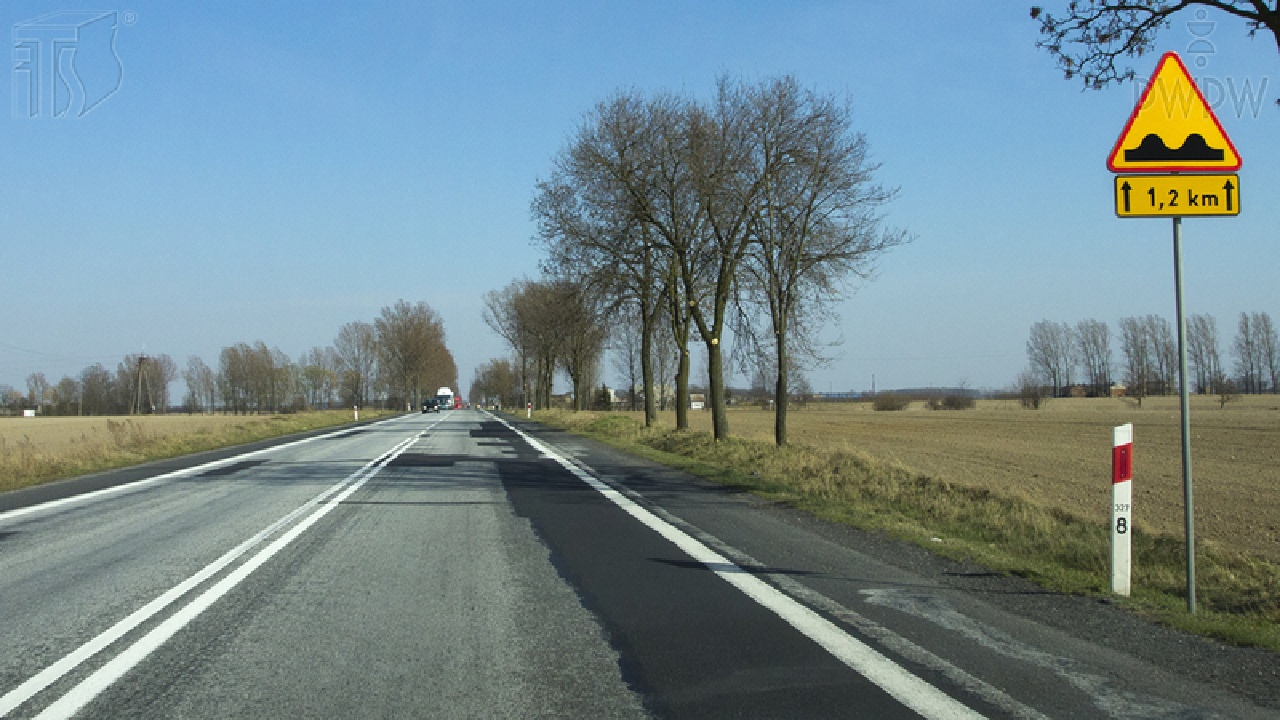A11: (1105, 50, 1244, 172)
